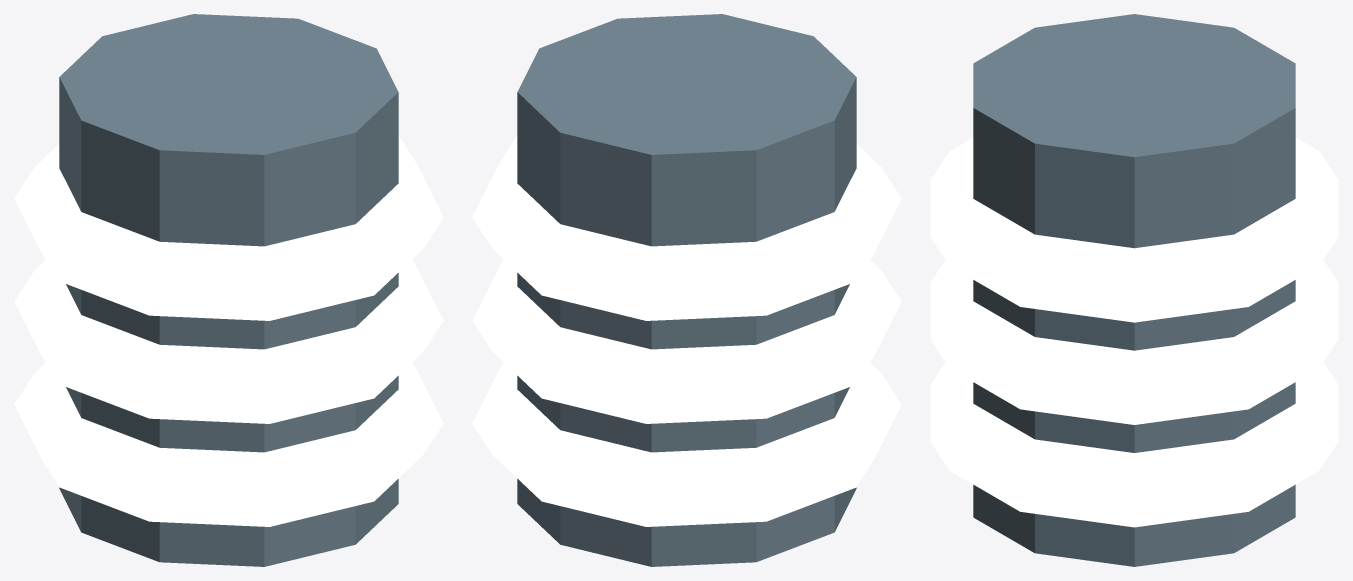
Rendered from fps-energy-cell.lod0.glb.
3 renders of one model, left to right at view 1: azimuth 30°, elevation 25°; view 2: azimuth 150°, elevation 25°; view 3: azimuth 270°, elevation 25°, orthographic.
Visible parts, largest first — view 1: fps-energy-cell__body; view 2: fps-energy-cell__body; view 3: fps-energy-cell__body.
Part boxes in pixels (bbox=[...]): fps-energy-cell__body: bbox=[14, 14, 443, 566]; fps-energy-cell__body: bbox=[472, 14, 901, 566]; fps-energy-cell__body: bbox=[930, 14, 1338, 566].
Size of the model in its own units: 0.19 by 0.2 by 0.1807.
